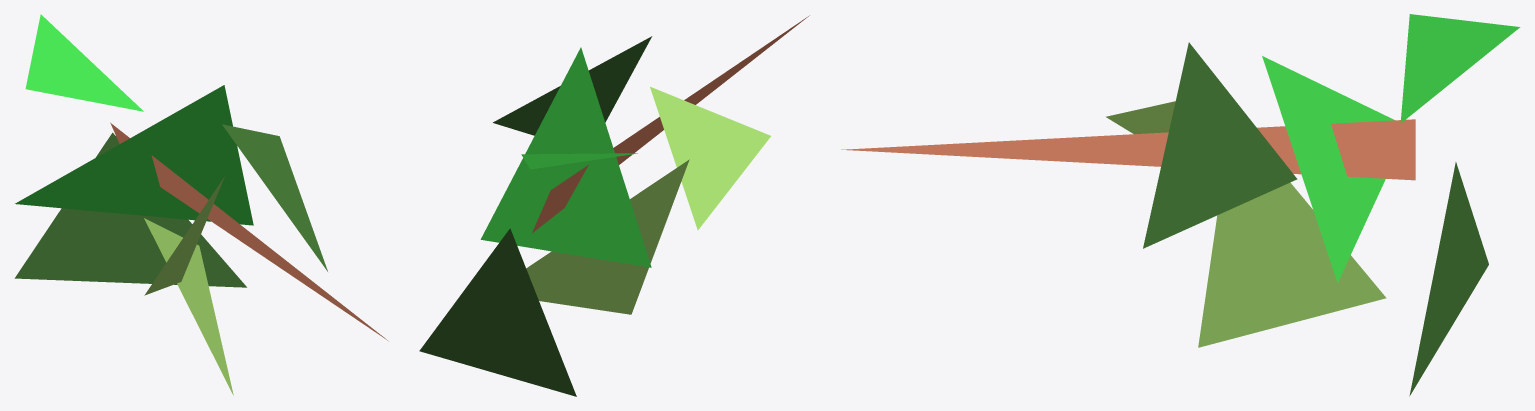
The model's file is tree4.fbx.
3 renders of one model, left to right at view 1: azimuth 30°, elevation 25°; view 2: azimuth 150°, elevation 25°; view 3: azimuth 270°, elevation 25°, orthographic. The views are drawn at different scales.
Parts seen in each view (by area): view 1: Icosphere.006; view 2: Icosphere.006; view 3: Icosphere.006.
Part boxes in pixels (box(x1,y1,x2,y2)): Icosphere.006: box(14, 14, 387, 395); Icosphere.006: box(419, 15, 809, 396); Icosphere.006: box(841, 14, 1520, 396).
Size of the model in its own units: 545 by 1298 by 638.
